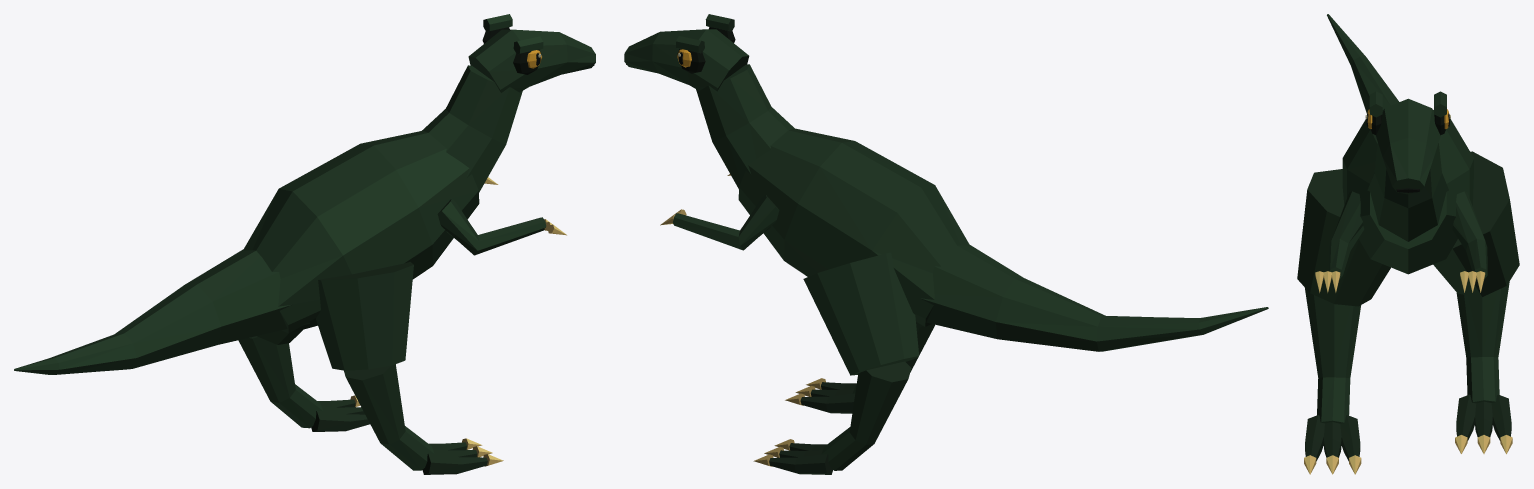
The model's file is SM_velociraptor.fbx.
The picture shows the model from 3 angles, left to right: view 1: azimuth 30°, elevation 25°; view 2: azimuth 150°, elevation 25°; view 3: azimuth 270°, elevation 25°; orthographic projection. The views are drawn at different scales.
Parts seen in each view (by area): view 1: SM_velociraptor • FBX; view 2: SM_velociraptor • FBX; view 3: SM_velociraptor • FBX.
Boxes of the visible parts, x1=… form: SM_velociraptor • FBX: x1=14, y1=14, x2=595, y2=474; SM_velociraptor • FBX: x1=624, y1=14, x2=1268, y2=474; SM_velociraptor • FBX: x1=1297, y1=14, x2=1519, y2=474.
Size of the model in its own units: 930 by 277 by 562.
